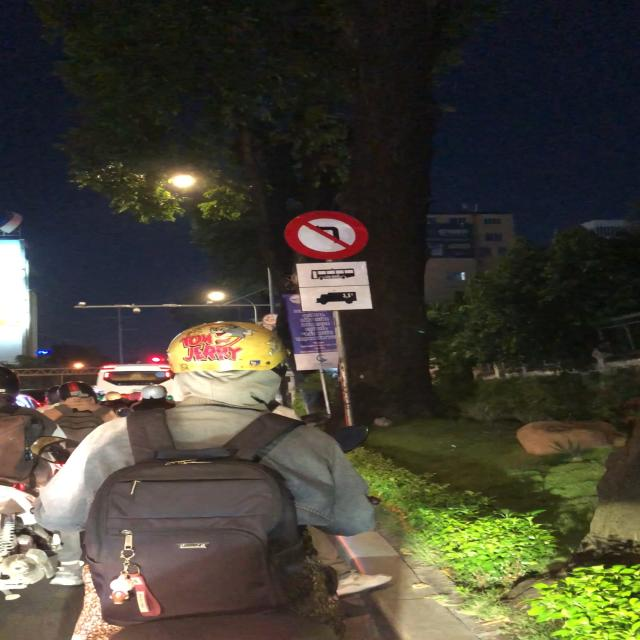Bien bao cam re trai: (281, 208, 370, 261)
